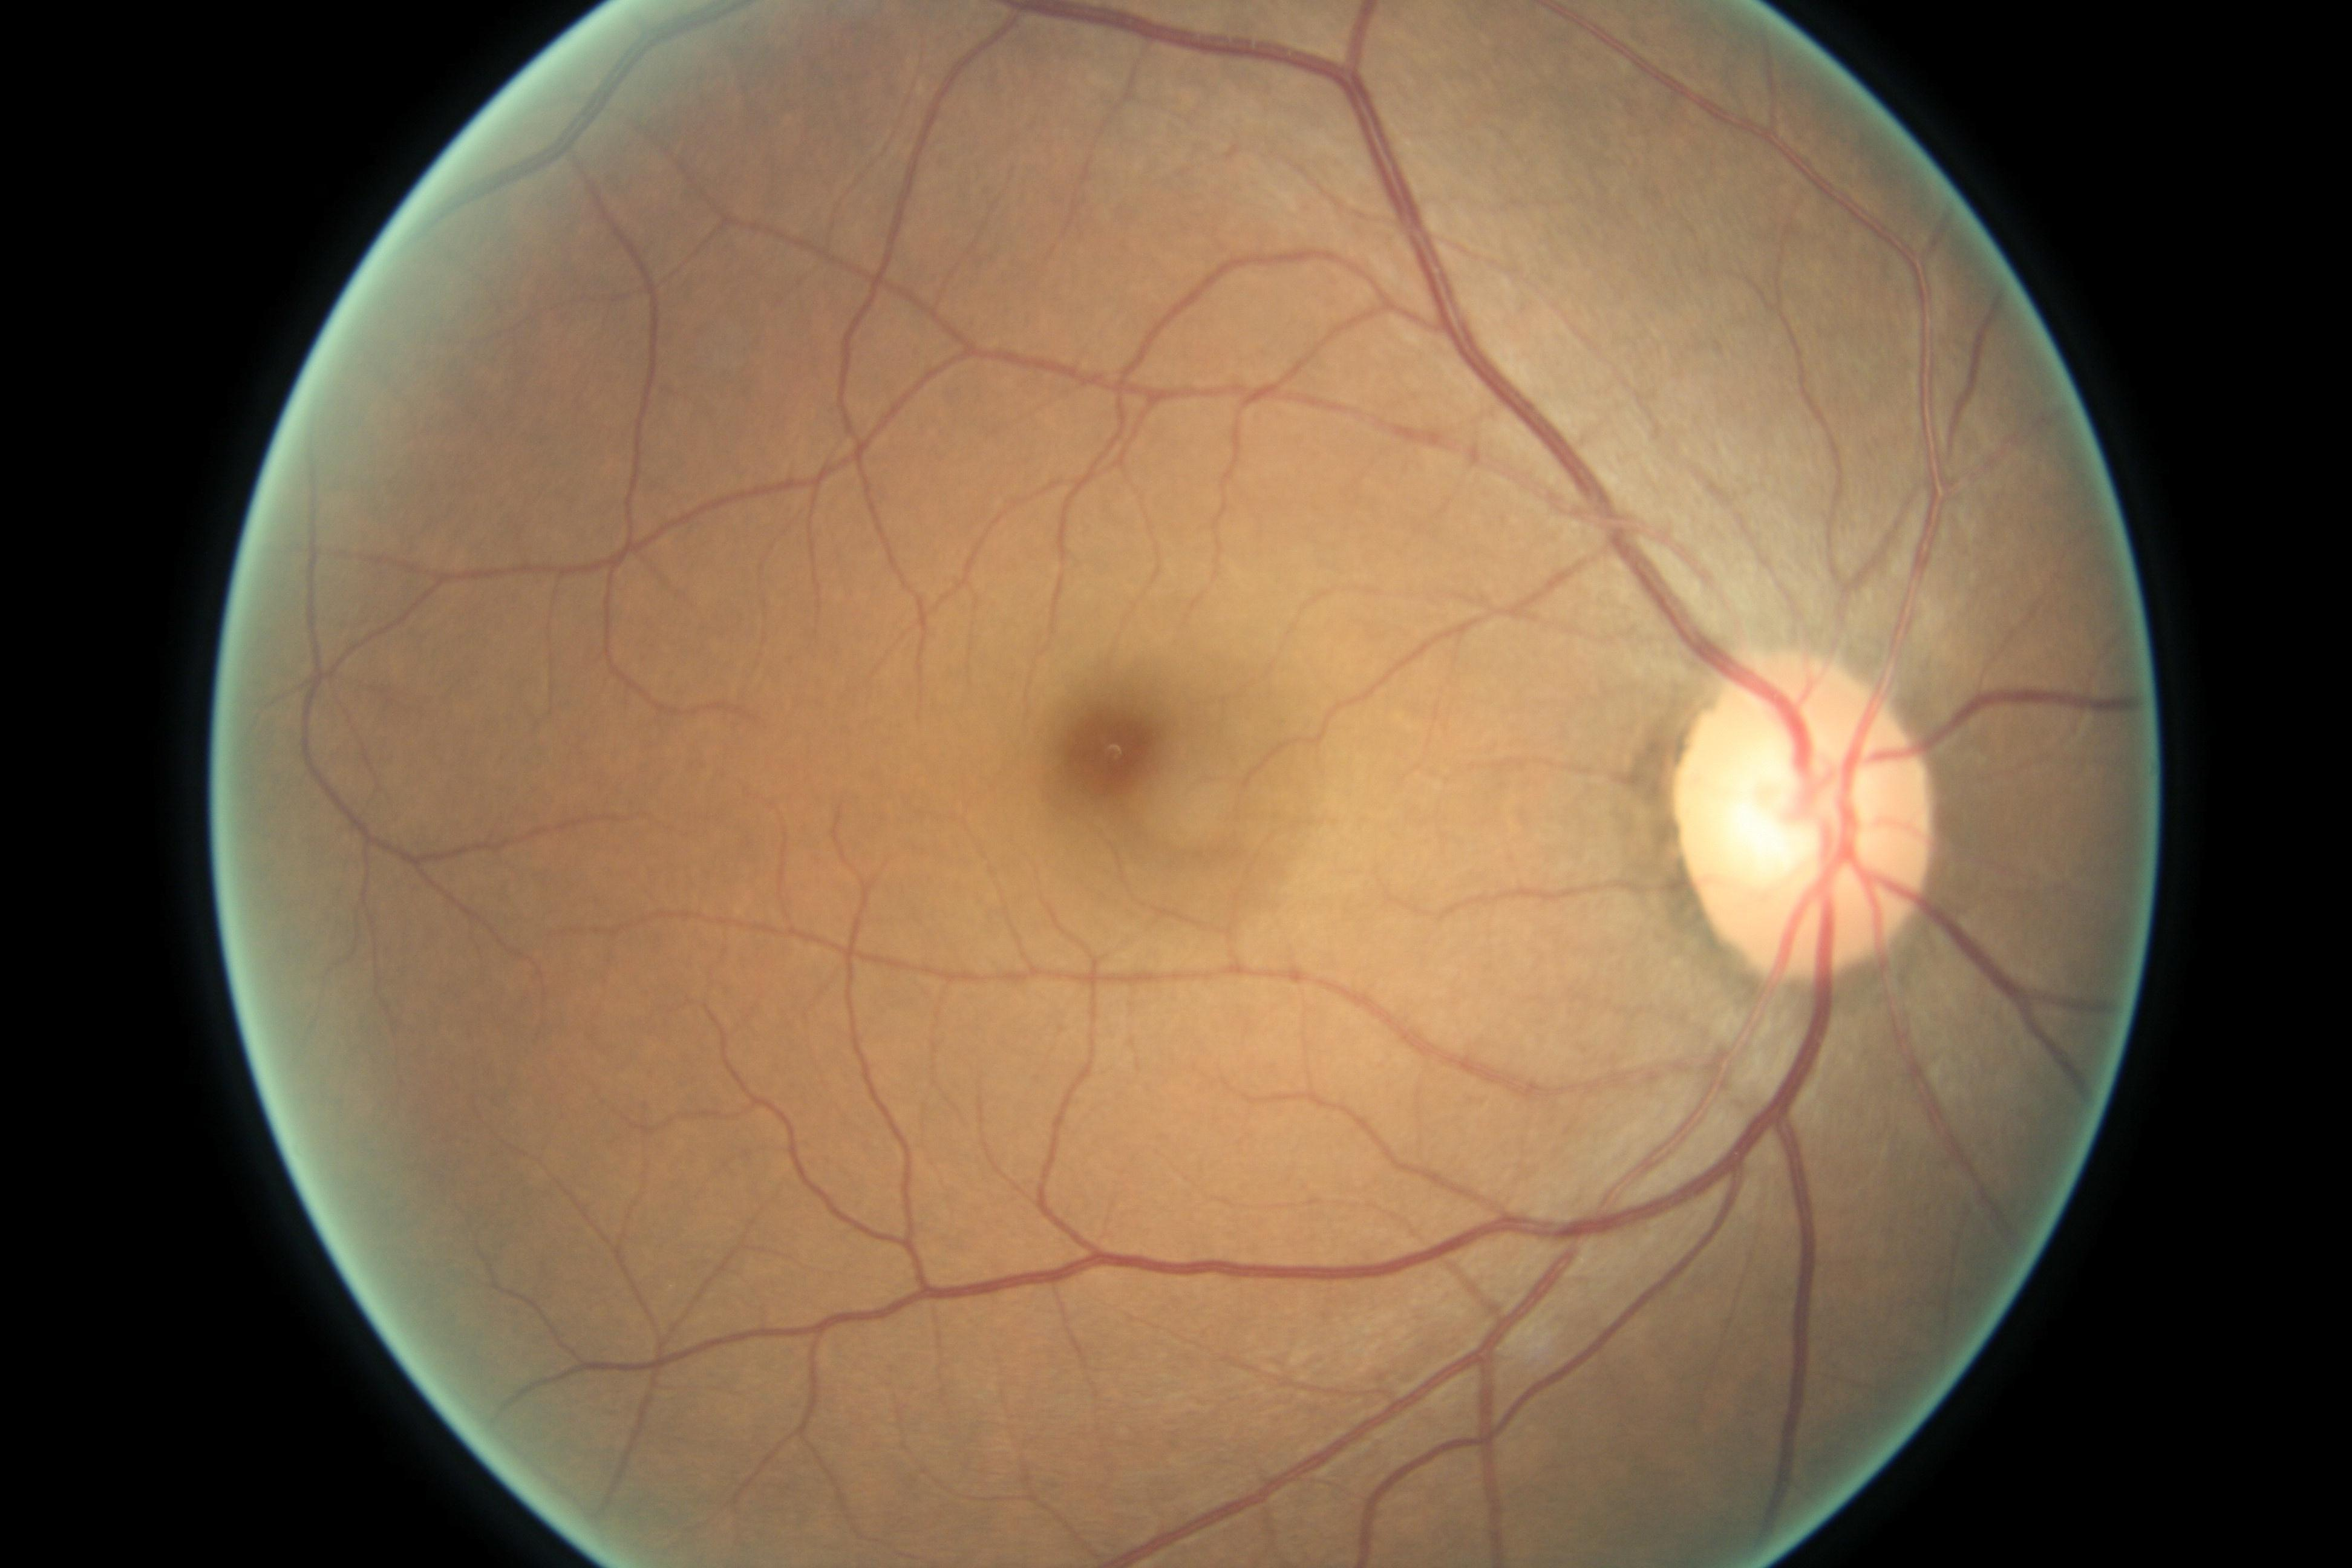Optic-nerve: (1664, 658, 1942, 989)
macula: (950, 625, 1297, 912)
